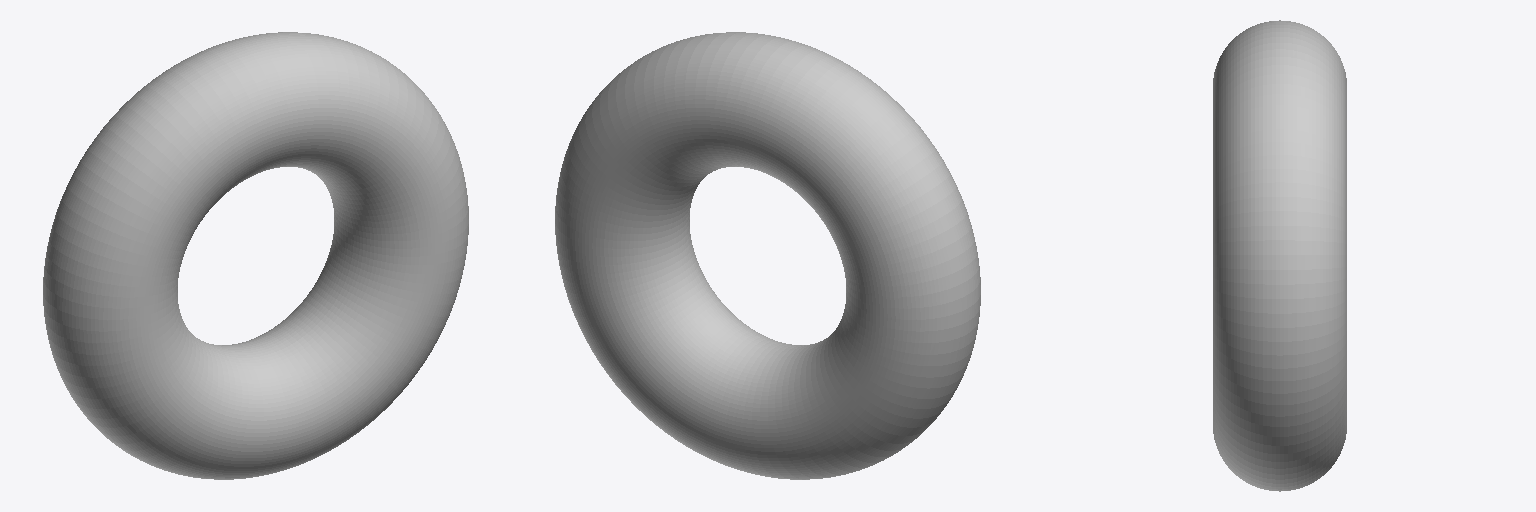
File: donut.obj
3 renders of one model, left to right at view 1: azimuth 30°, elevation 25°; view 2: azimuth 150°, elevation 25°; view 3: azimuth 270°, elevation 25°, orthographic.
Parts seen in each view (by area): view 1: Object.1; view 2: Object.1; view 3: Object.1.
Part boxes in pixels (x1,y1,x2,y2): Object.1: (43,32,468,479); Object.1: (555,32,980,479); Object.1: (1213,20,1346,491).
Bounding box in the file's own units: 70 × 70 × 20.